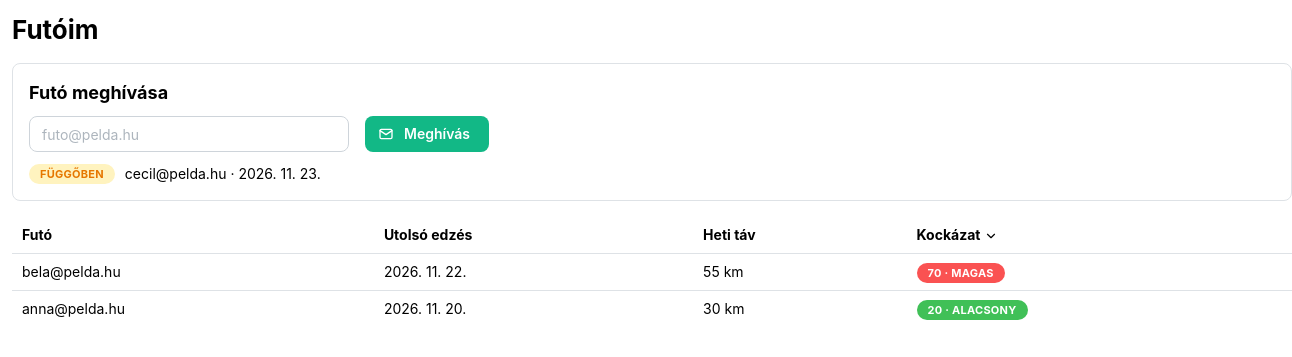
Test: CoachOverviewPage › érvénytelen e-mail címre nem küld meghívót, érvényesre igen
Later steps or results of the test are not shown.
Type "nem-email" into the field named "A futó e-mail címe" at (189, 134), box [29,116,349,152]
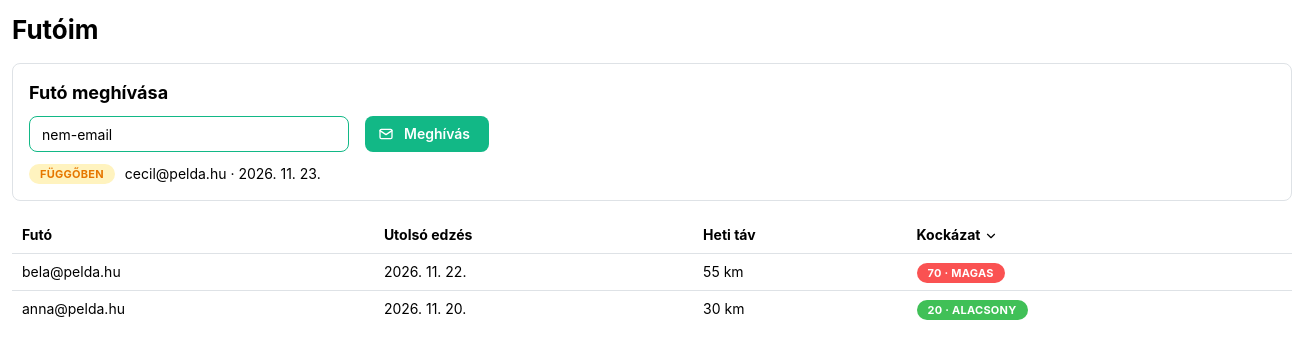
Click the button "Meghívás" at (427, 134), box [365,116,489,152]
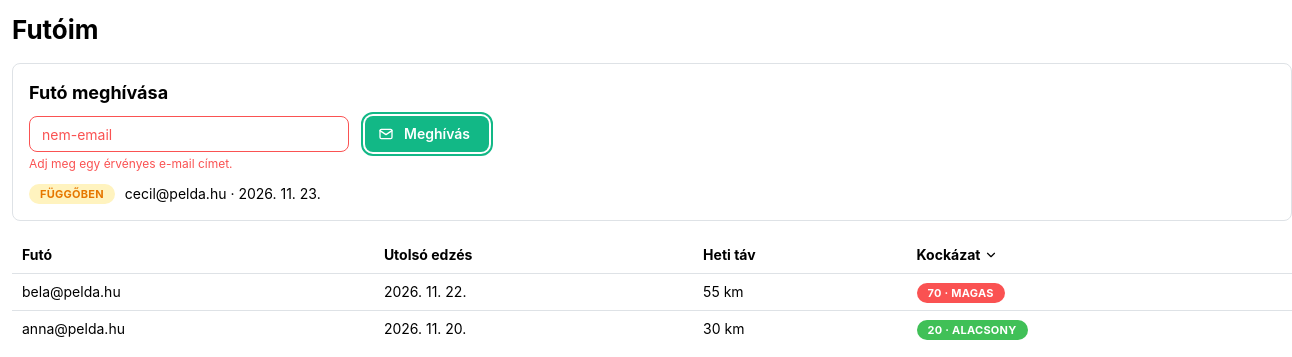
Expected: the text "Adj meg egy érvényes e-mail címet." is shown, [29,156,233,171]
